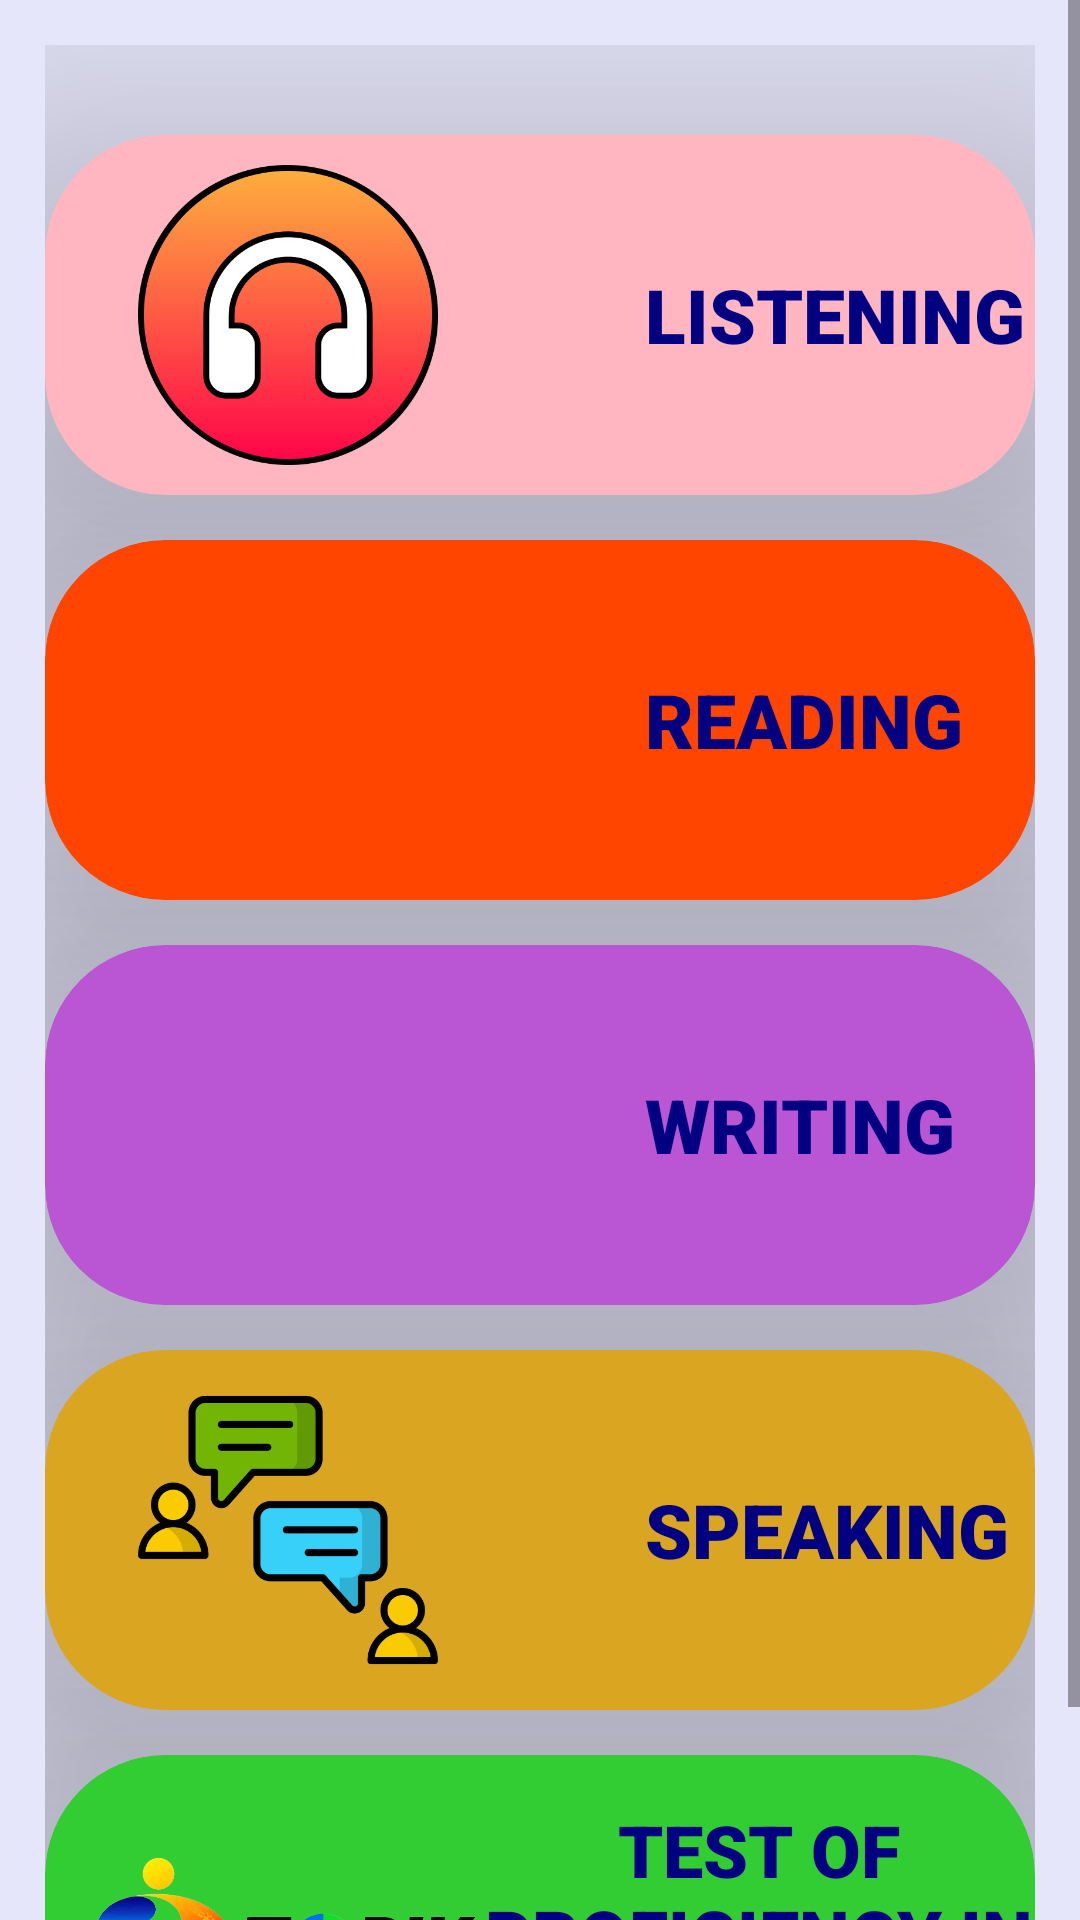

Where to tap for icons on this 1080px×1920px app screen, as [x,y]:
listening kr: [288,315]
speaking korean: [288,1530]
